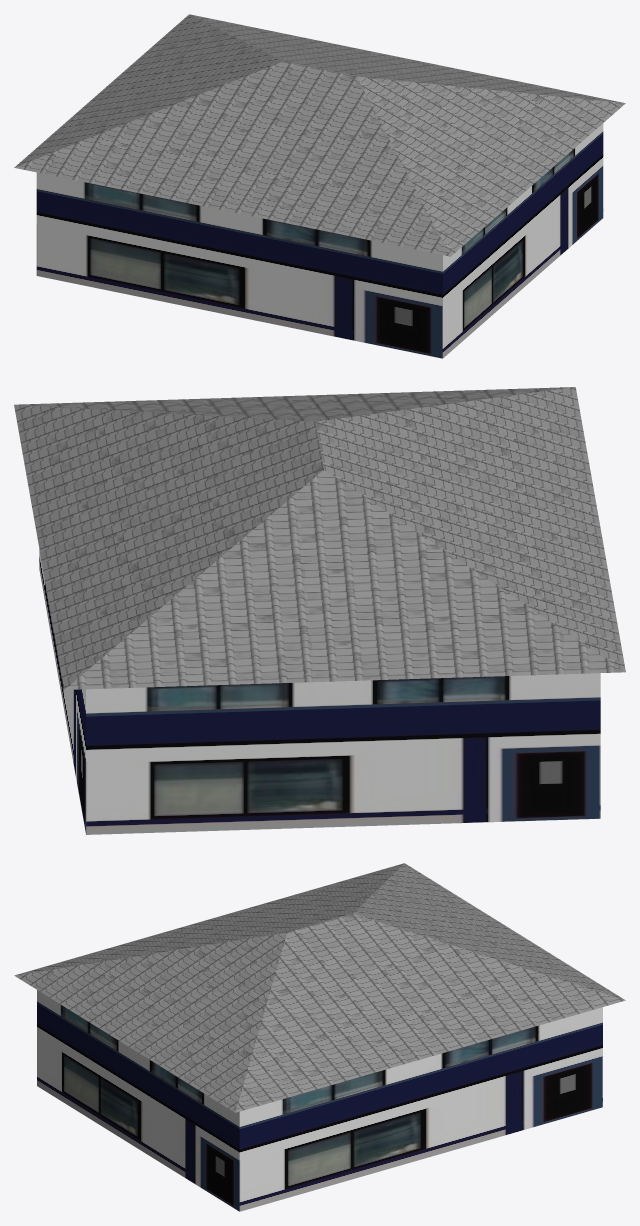
3 views of the same model, one above another, from view 1: azimuth 30°, elevation 25°; view 2: azimuth 150°, elevation 25°; view 3: azimuth 270°, elevation 25° (orthographic). The views are drawn at different scales.
Visible parts, largest first — view 1: CityEngineMaterial_4_m, CityEngineMaterial_2_m; view 2: CityEngineMaterial_4_m, CityEngineMaterial_2_m; view 3: CityEngineMaterial_4_m, CityEngineMaterial_2_m.
Part boxes in pixels (left/top/right/bottom): CityEngineMaterial_4_m: left=14, top=14, right=625, bottom=256; CityEngineMaterial_2_m: left=36, top=123, right=603, bottom=358; CityEngineMaterial_4_m: left=14, top=387, right=625, bottom=689; CityEngineMaterial_2_m: left=39, top=549, right=600, bottom=834; CityEngineMaterial_4_m: left=14, top=863, right=625, bottom=1112; CityEngineMaterial_2_m: left=37, top=990, right=602, bottom=1211.
Bounding box in the file's own units: 33.56 × 10.87 × 34.75.
